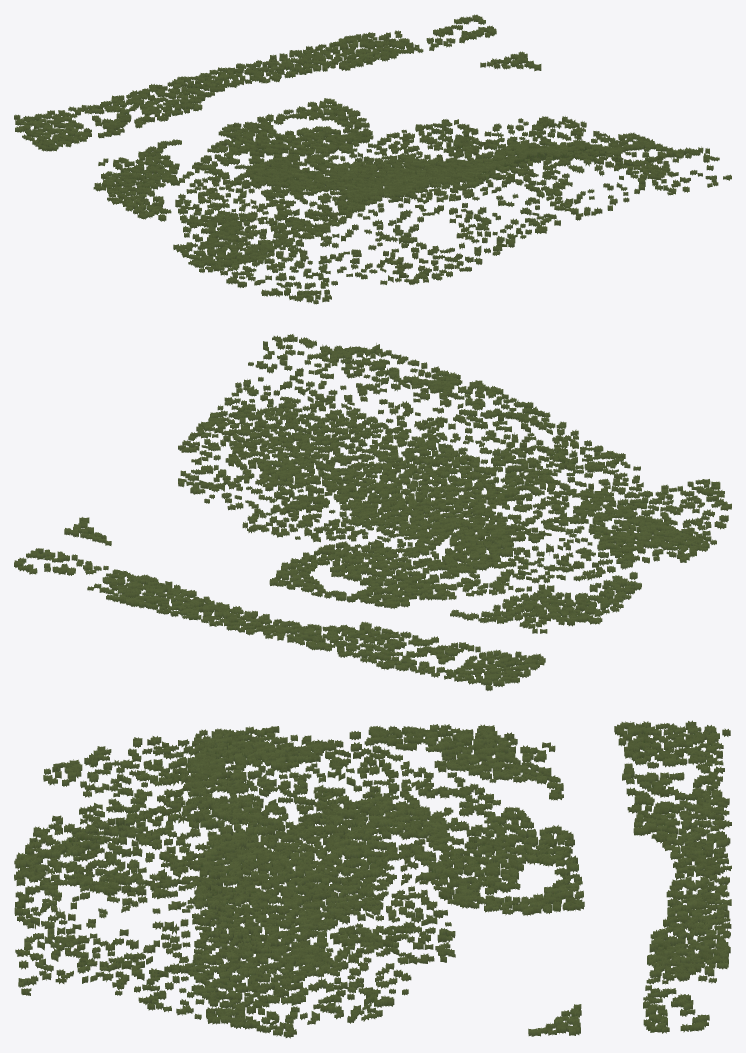
File: TRB8-GRASS-CHUNK-5-5.glb
The picture shows the model from 3 angles, top to bottom: view 1: azimuth 30°, elevation 25°; view 2: azimuth 150°, elevation 25°; view 3: azimuth 270°, elevation 25°; orthographic projection. The views are drawn at different scales.
Parts seen in each view (by area): view 1: TRB8-GRASS-CHUNK-5-5; view 2: TRB8-GRASS-CHUNK-5-5; view 3: TRB8-GRASS-CHUNK-5-5.
Boxes of the visible parts, x1,y1,x2,y2 form: TRB8-GRASS-CHUNK-5-5: (14, 14, 731, 304); TRB8-GRASS-CHUNK-5-5: (14, 334, 731, 690); TRB8-GRASS-CHUNK-5-5: (14, 720, 731, 1038).
Size of the model in its own units: 40.51 by 5.39 by 40.47.
Materials: 1 (1 with a texture image).
